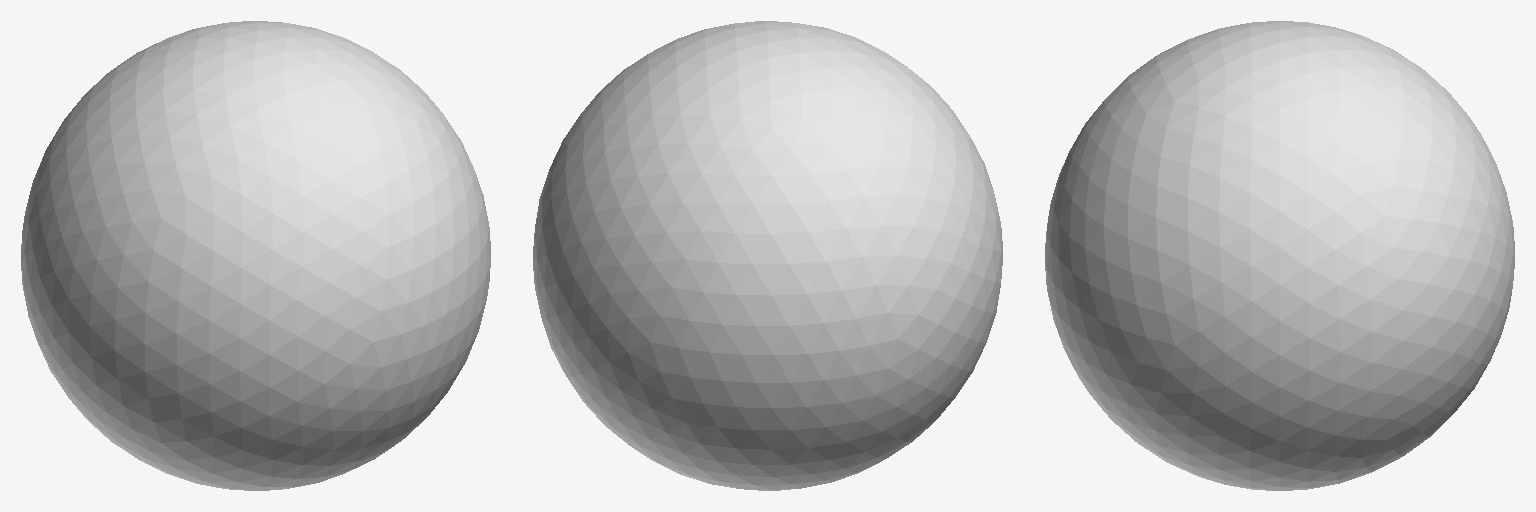
File: geosphere_white.obj
3 views of the same model, side by side, from view 1: azimuth 30°, elevation 25°; view 2: azimuth 150°, elevation 25°; view 3: azimuth 270°, elevation 25° (orthographic).
Visible parts, largest first — view 1: GeoSphere001; view 2: GeoSphere001; view 3: GeoSphere001.
Boxes of the visible parts, box(x1,y1,x2,y2) form: GeoSphere001: box(21, 21, 490, 490); GeoSphere001: box(533, 21, 1002, 490); GeoSphere001: box(1045, 21, 1514, 490).
Bounding box in the file's own units: 2 × 2 × 2.